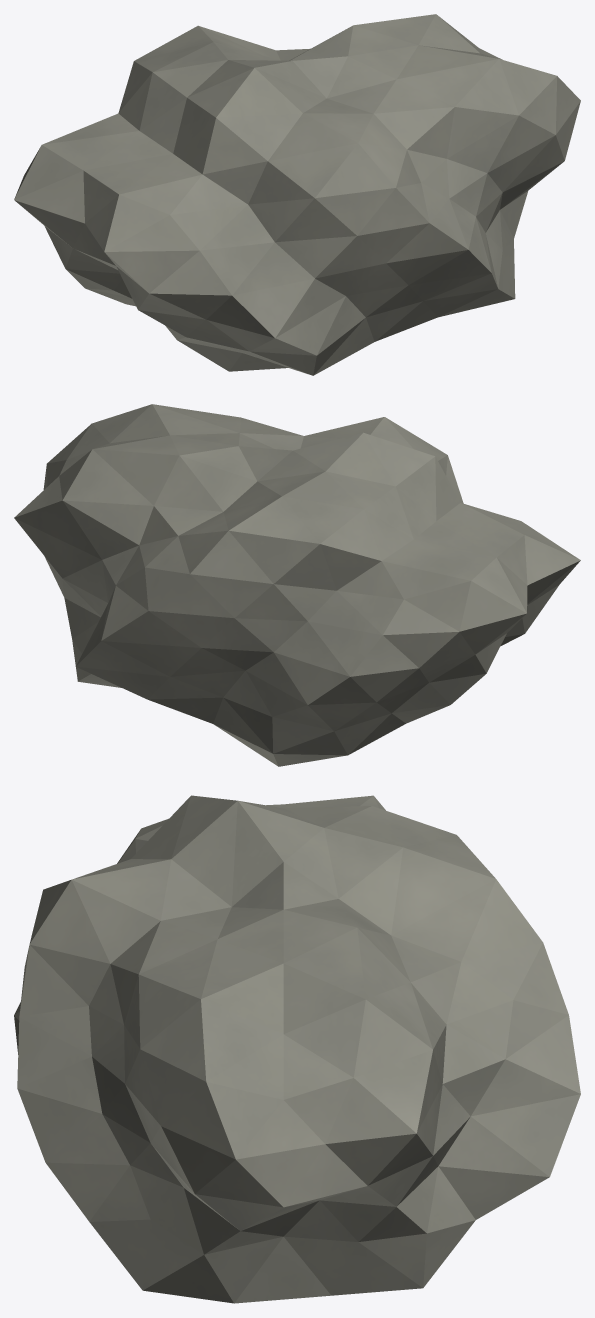
The model's file is GF2_Boulder_B.fbx.
3 views of the same model, one above another, from view 1: azimuth 30°, elevation 25°; view 2: azimuth 150°, elevation 25°; view 3: azimuth 270°, elevation 25° (orthographic). The views are drawn at different scales.
Parts seen in each view (by area): view 1: GF2_Boulder_B.001; view 2: GF2_Boulder_B.001; view 3: GF2_Boulder_B.001.
Boxes of the visible parts, x1,y1,x2,y2 form: GF2_Boulder_B.001: [14, 14, 580, 375]; GF2_Boulder_B.001: [14, 404, 580, 766]; GF2_Boulder_B.001: [14, 795, 580, 1303].
Size of the model in its own units: 8.94 by 5.06 by 6.25.
Materials: 1 (1 with a texture image).
